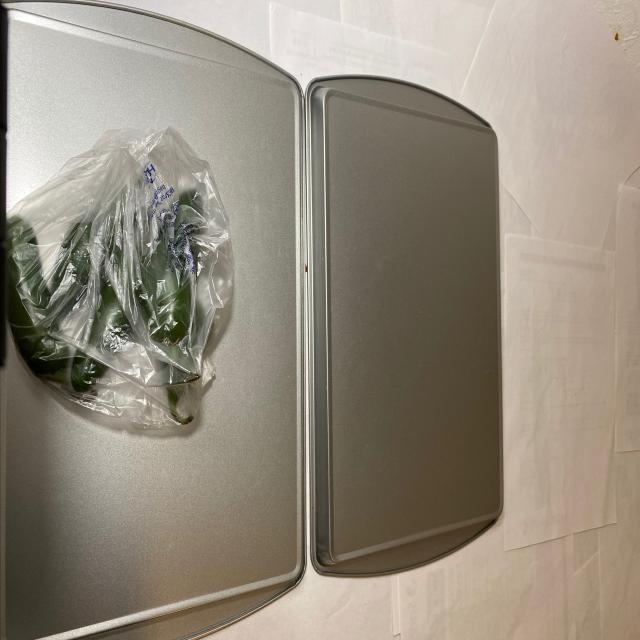chilli: (7, 175, 210, 434)
